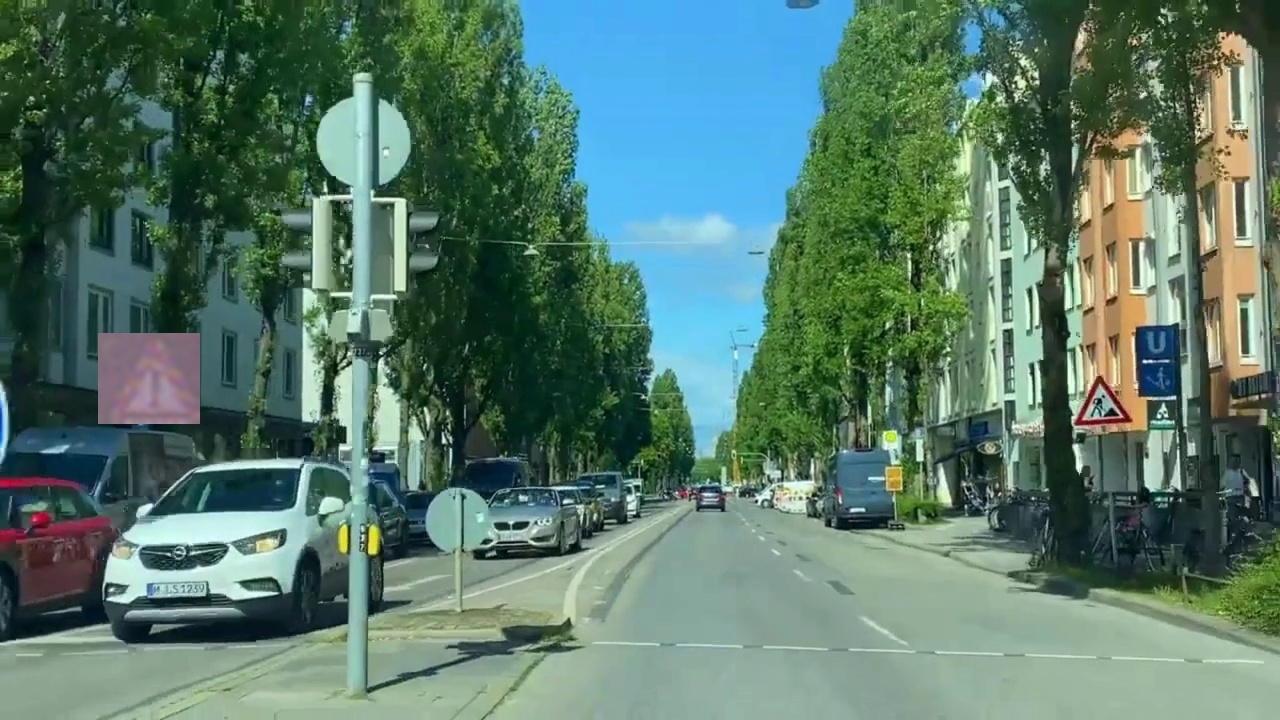Caution: (98, 333, 200, 424)
